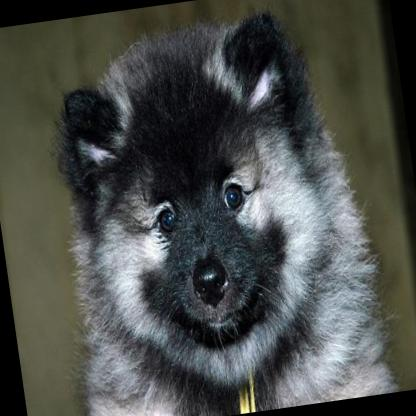keeshond: (24, 0, 400, 416)
